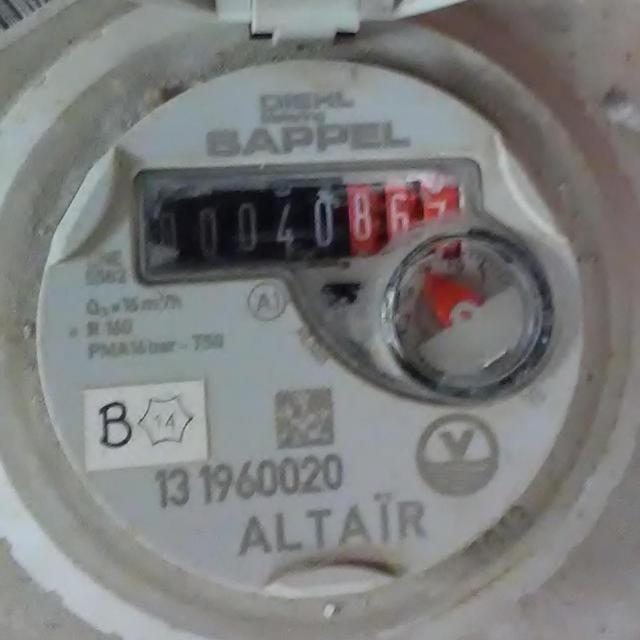gaz_meter: (36, 59, 596, 597)
indication: (138, 171, 464, 282)
